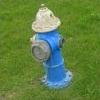a fire hydrant: (30, 5, 69, 92)
